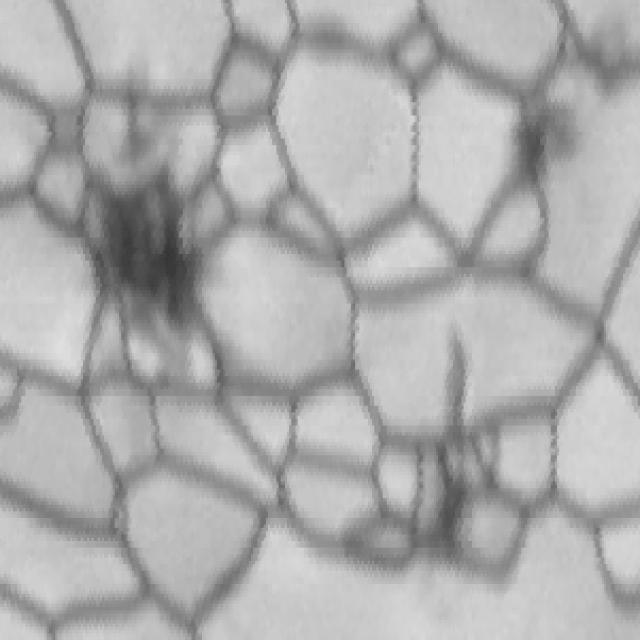good_void: (76, 160, 210, 381), (422, 328, 490, 549), (504, 85, 583, 253), (109, 80, 156, 170)
